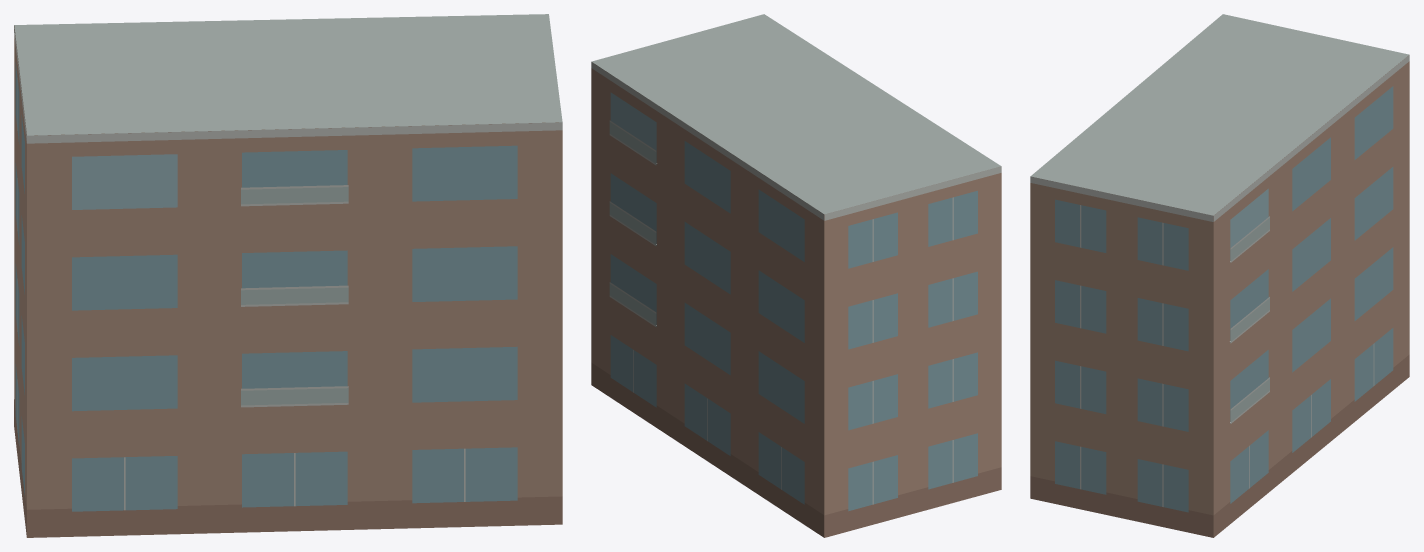
File: survey-upis-32885987.glb
3 renders of one model, left to right at view 1: azimuth 30°, elevation 25°; view 2: azimuth 150°, elevation 25°; view 3: azimuth 270°, elevation 25°, orthographic. The views are drawn at different scales.
Parts seen in each view (by area): view 1: survey-upis-32885987.tmp; view 2: survey-upis-32885987.tmp; view 3: survey-upis-32885987.tmp.
Boxes of the visible parts, x1,y1,x2,y2 form: survey-upis-32885987.tmp: (14,14,562,537); survey-upis-32885987.tmp: (591,14,1001,537); survey-upis-32885987.tmp: (1030,14,1409,537).
Bounding box in the file's own units: 16.39 × 12.2 × 13.02.
